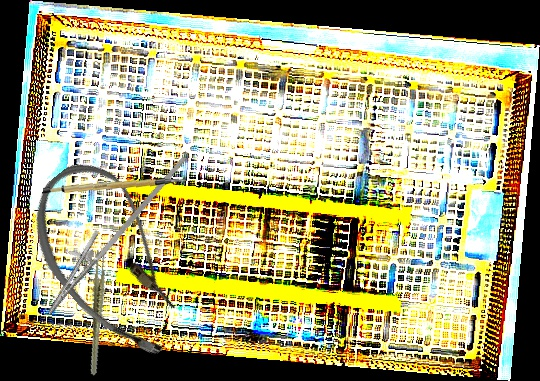Cannula: (6, 146, 220, 374)
Needle Holder: (33, 133, 188, 330)
Scalpel Handle: (42, 168, 187, 206)
Tissue Forceps: (66, 246, 128, 377)
